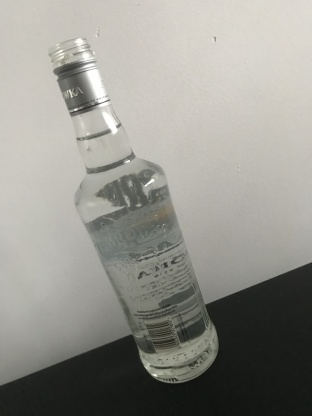nakretka: (46, 34, 112, 119)
